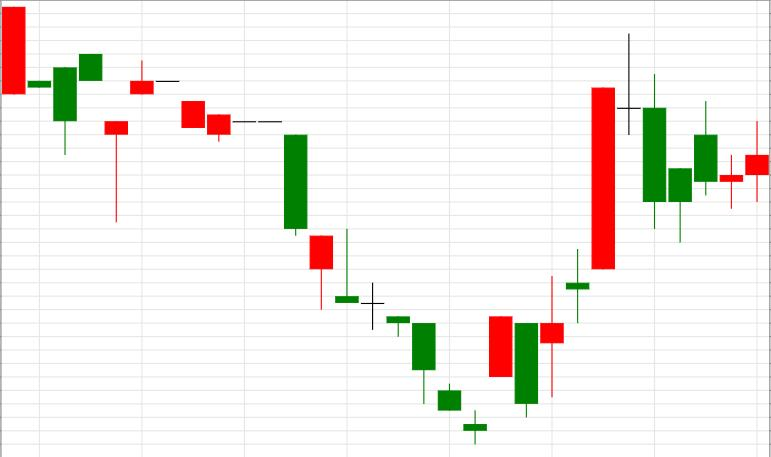hammer_rise: (131, 60, 333, 311)
morning_star_rise: (131, 59, 512, 444)
